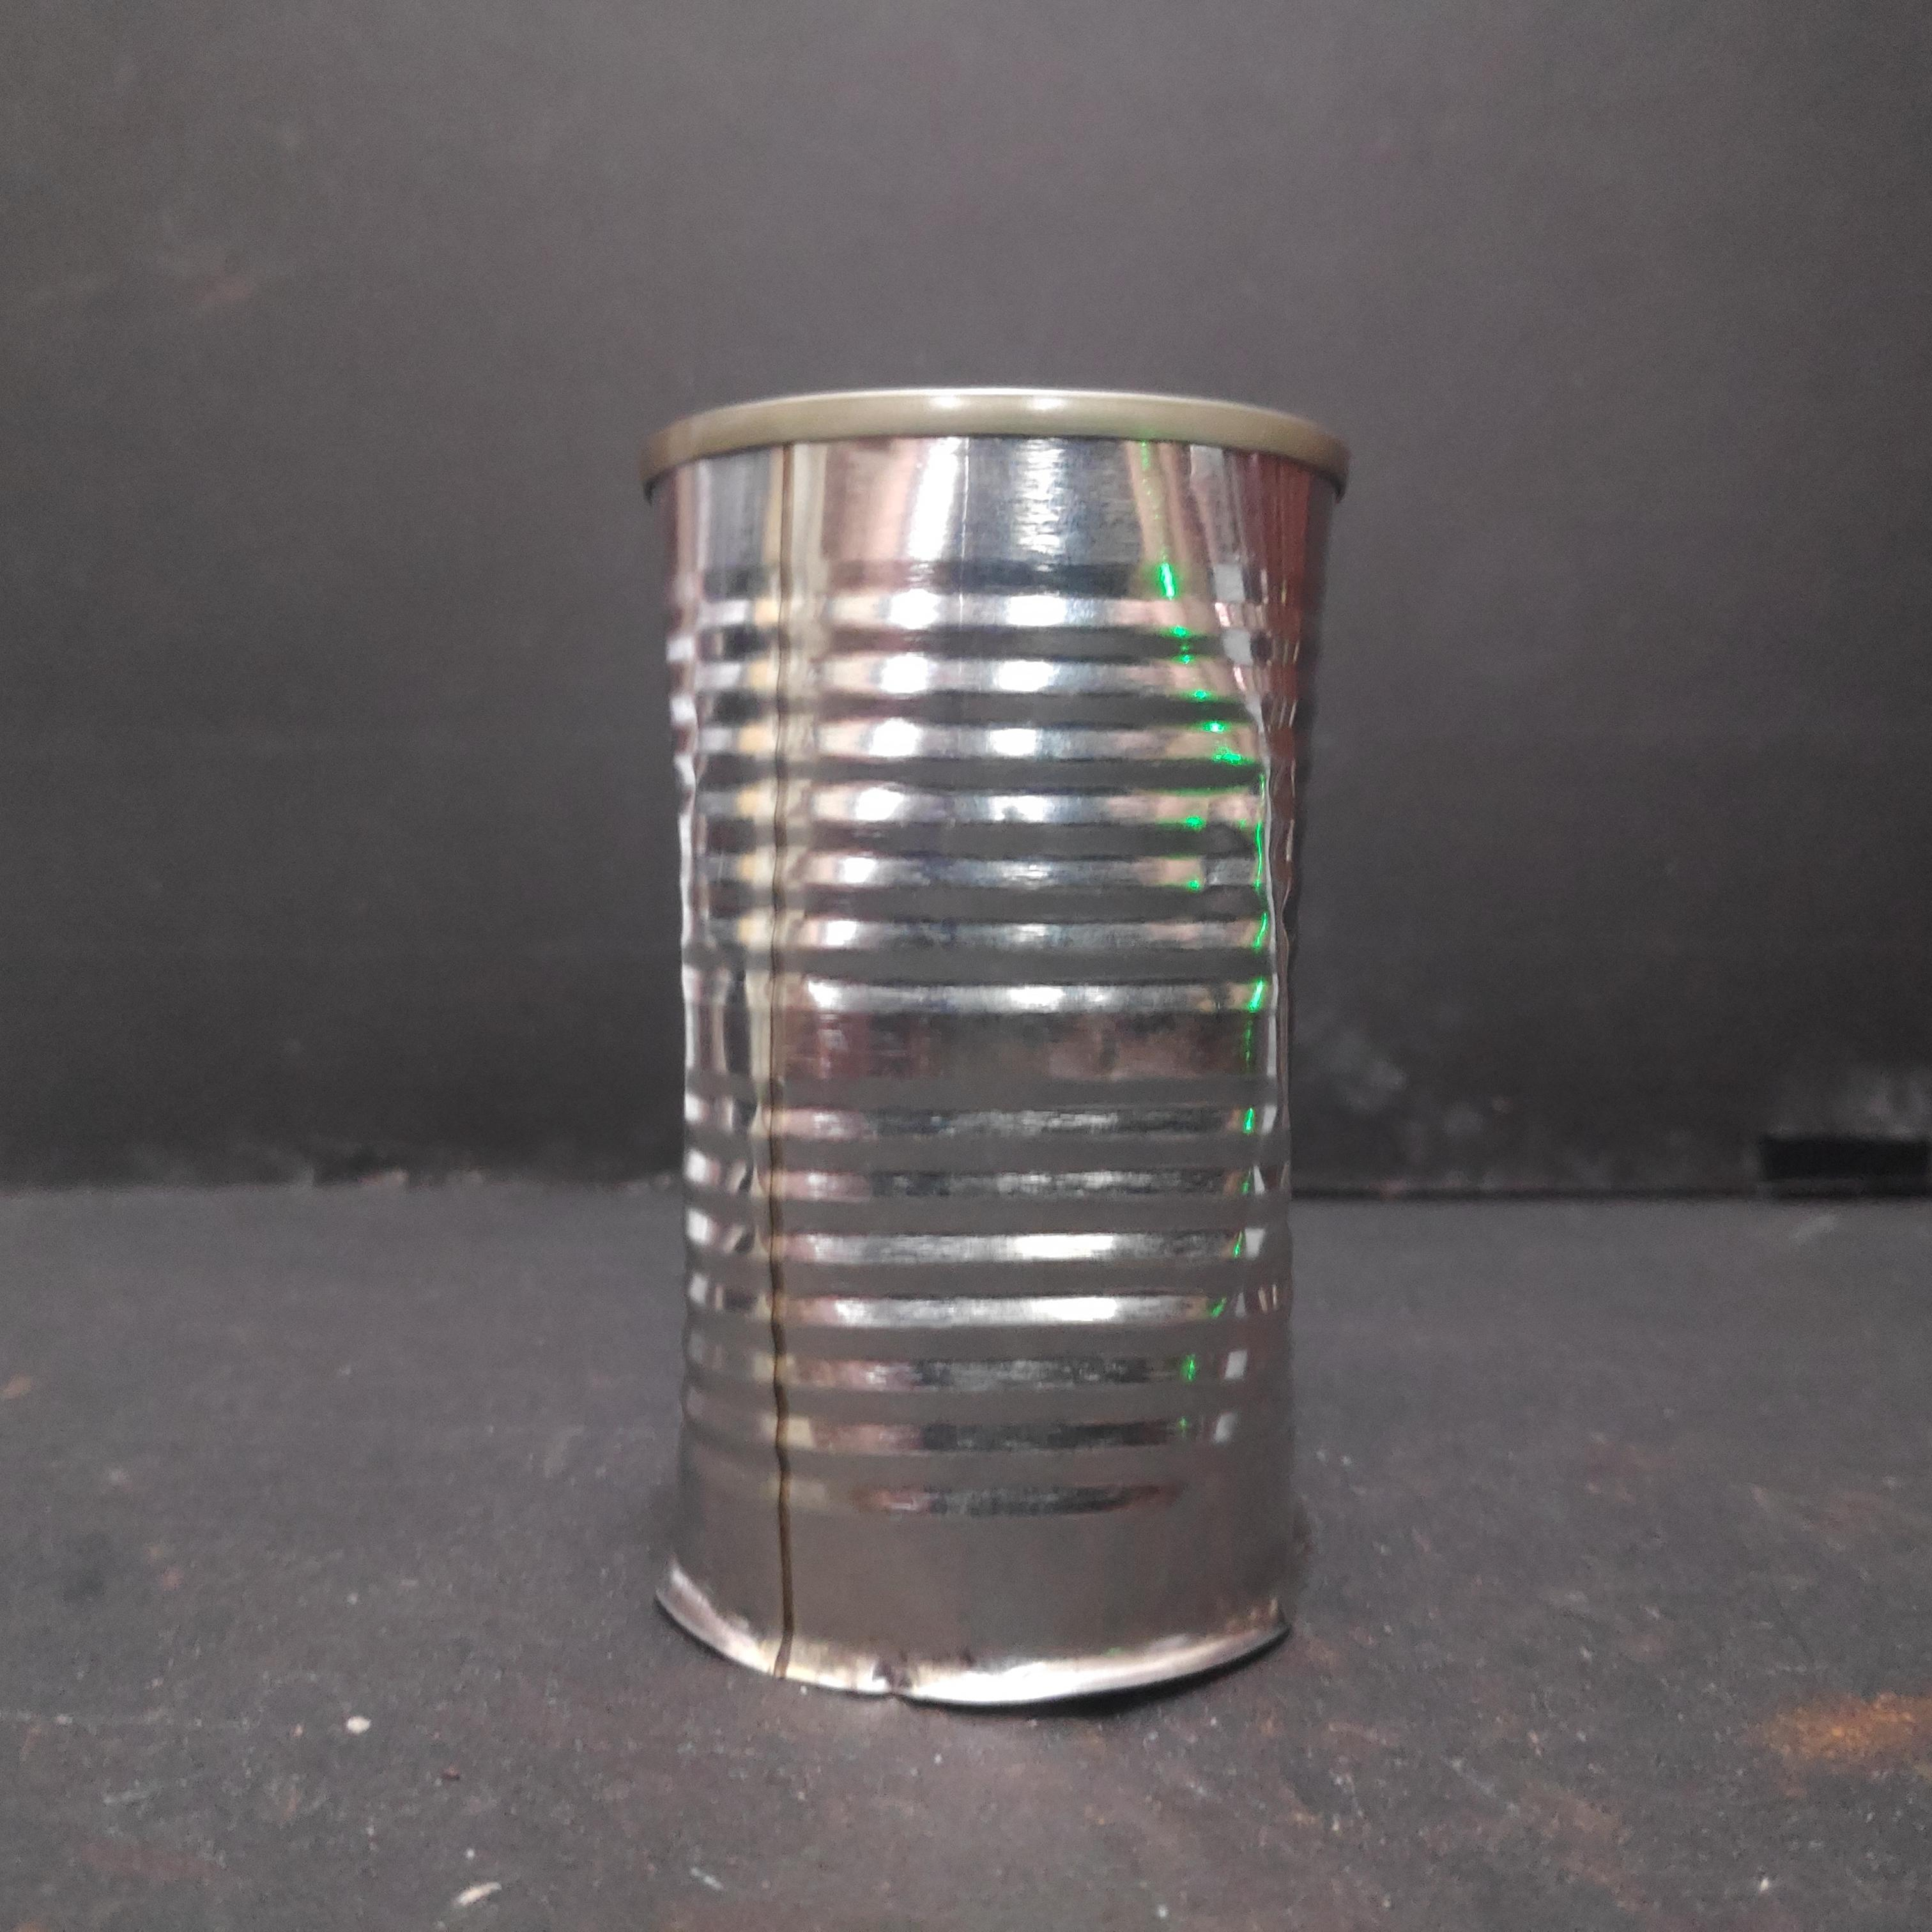Minor Defect: (621, 378, 1363, 1731)
